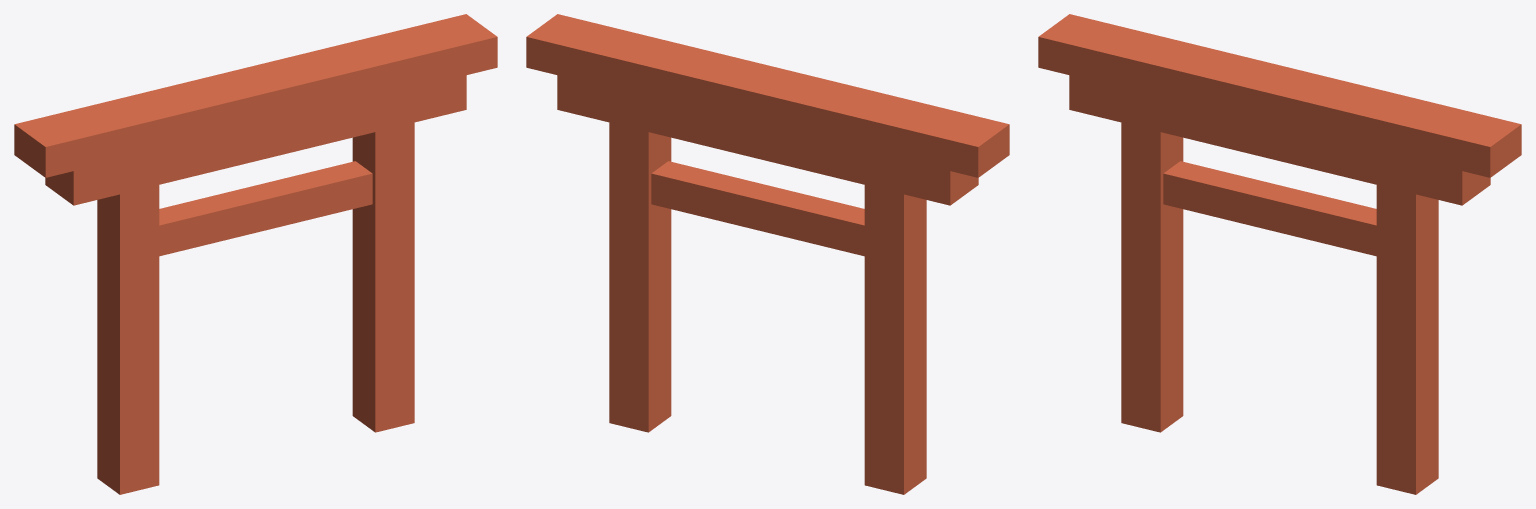
File: torii.glb
3 renders of one model, left to right at view 1: azimuth 30°, elevation 25°; view 2: azimuth 150°, elevation 25°; view 3: azimuth 330°, elevation 25°, orthographic.
Visible parts, largest first — view 1: Embossify relief; view 2: Embossify relief; view 3: Embossify relief.
Boxes of the visible parts, x1,y1,x2,y2 form: Embossify relief: (14,14,497,494); Embossify relief: (526,14,1009,494); Embossify relief: (1038,14,1521,494).
Bounding box in the file's own units: 0.08 × 0.0626 × 0.00957.
